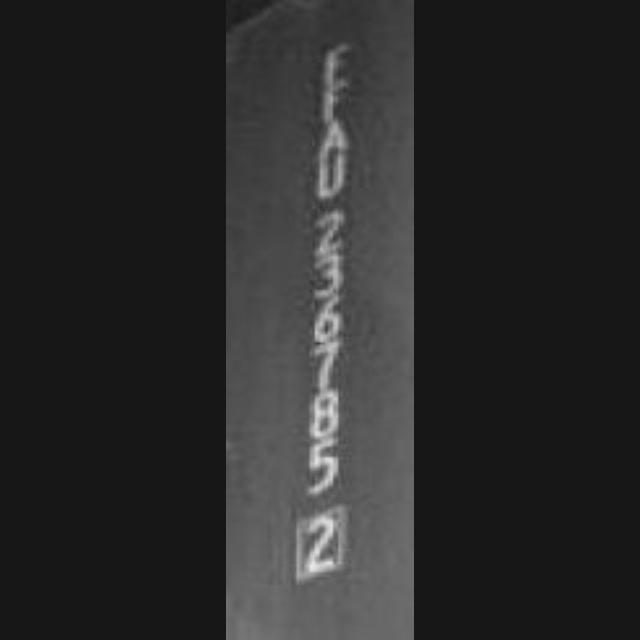2: (294, 502, 351, 580), (306, 202, 356, 258)
3: (306, 250, 352, 304)
5: (303, 434, 352, 498)
6: (306, 293, 348, 349)
7: (304, 339, 346, 395)
8: (300, 388, 350, 447)
a: (312, 116, 354, 164)
e: (313, 36, 359, 94)
f: (312, 80, 354, 128)
u: (310, 154, 352, 204)
